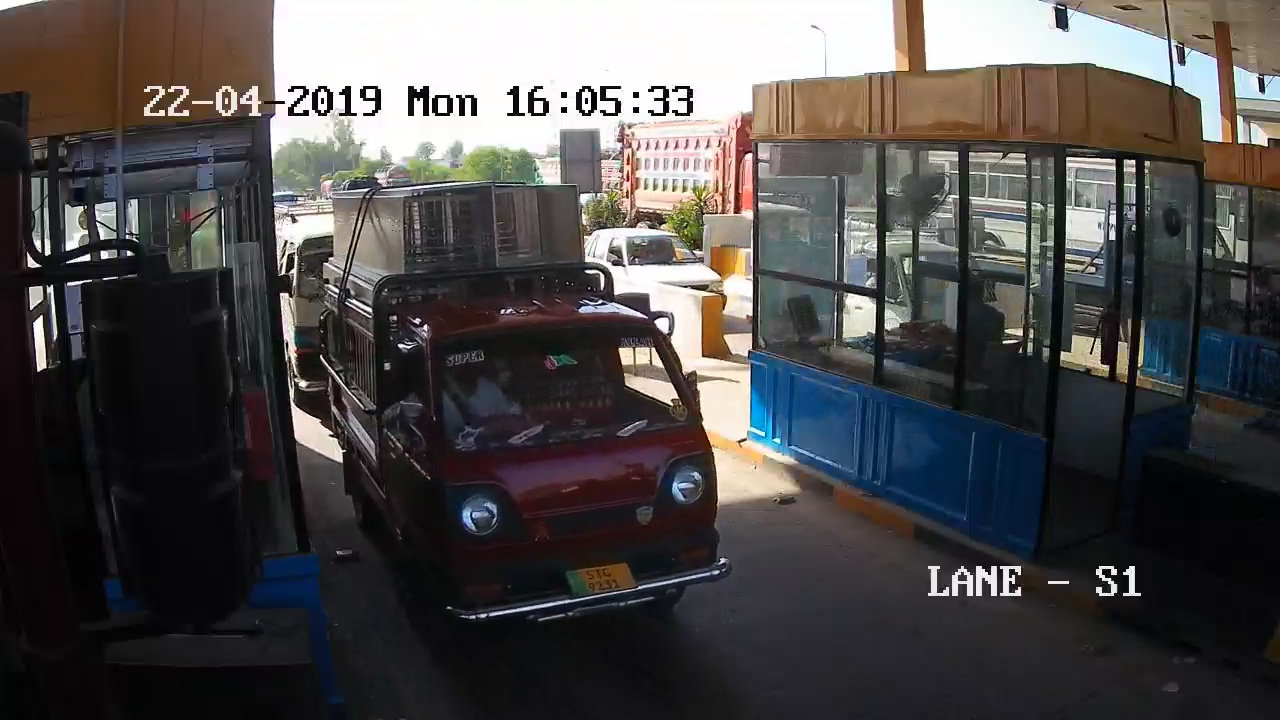Number Plate (Car): (561, 565, 639, 596)
